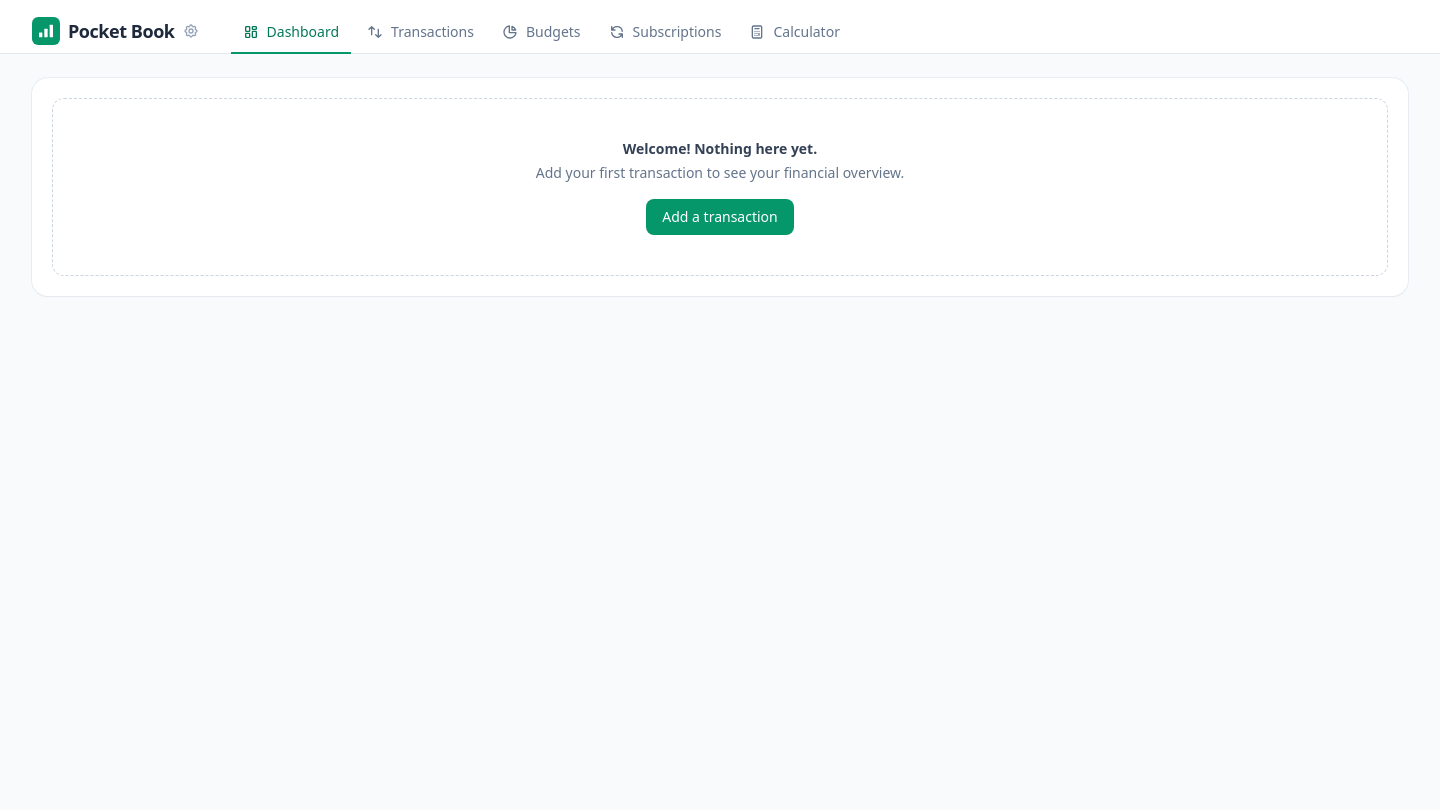
Test: transaction form date field › refuses 31/02/2026 (an impossible date), explains, and saves nothing
Click the tab "Transactions". click: [421, 33]
box: 355,12 -> 486,54
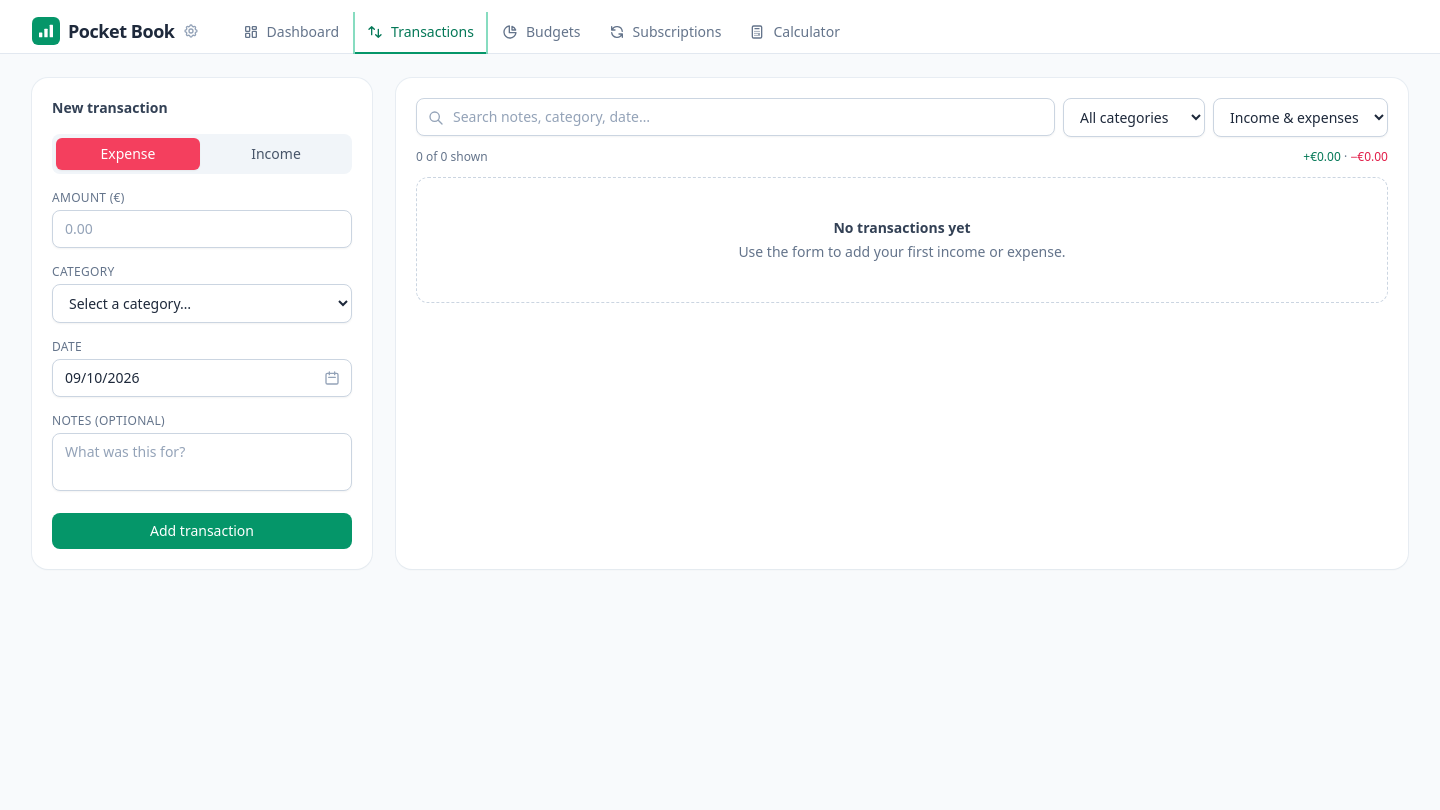
Type "5" into the field labelled "Amount (€)". click: [202, 229]
box: 52,210 -> 352,248
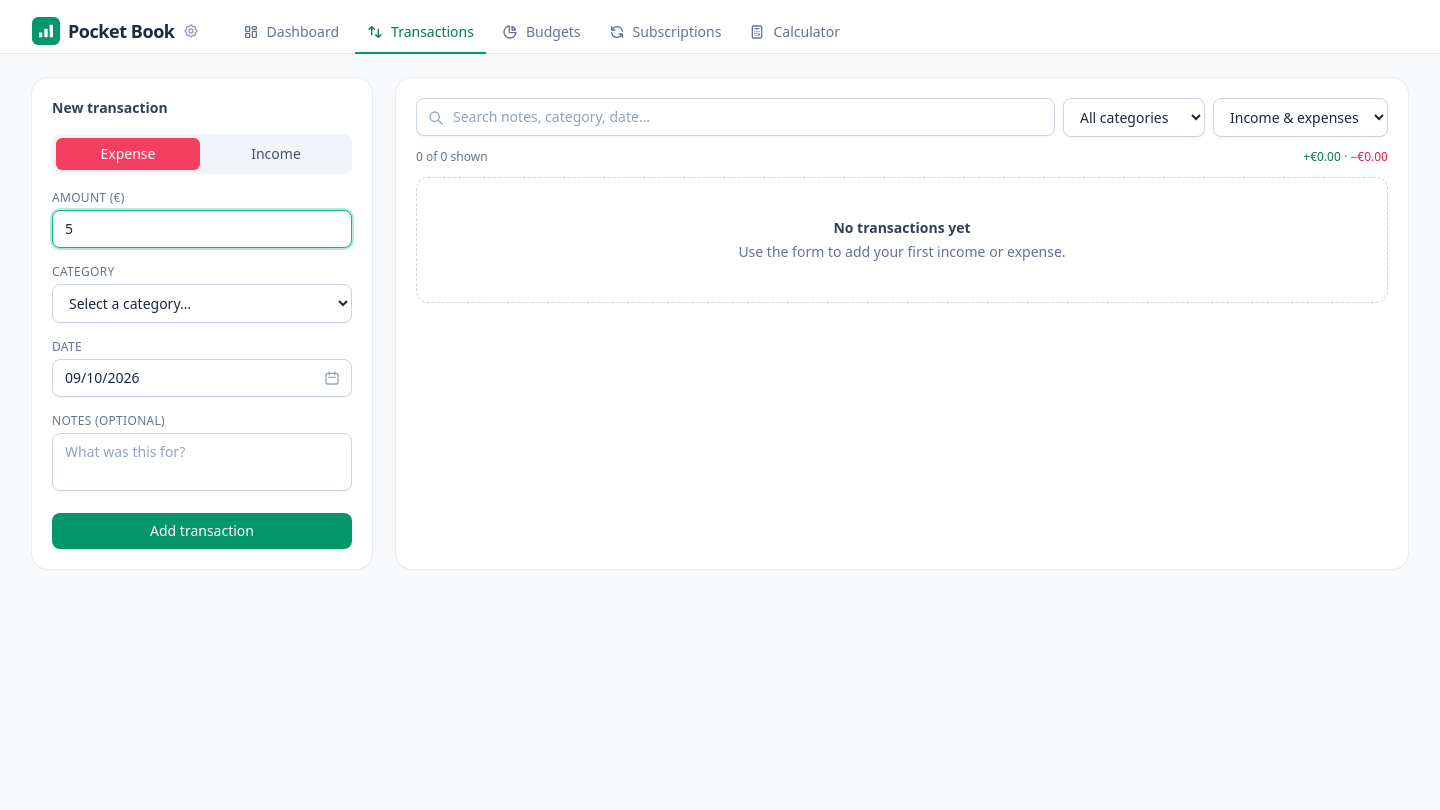
Select "Food" in the dropdown labelled "Category". click: [202, 304]
box: 52,284 -> 352,323
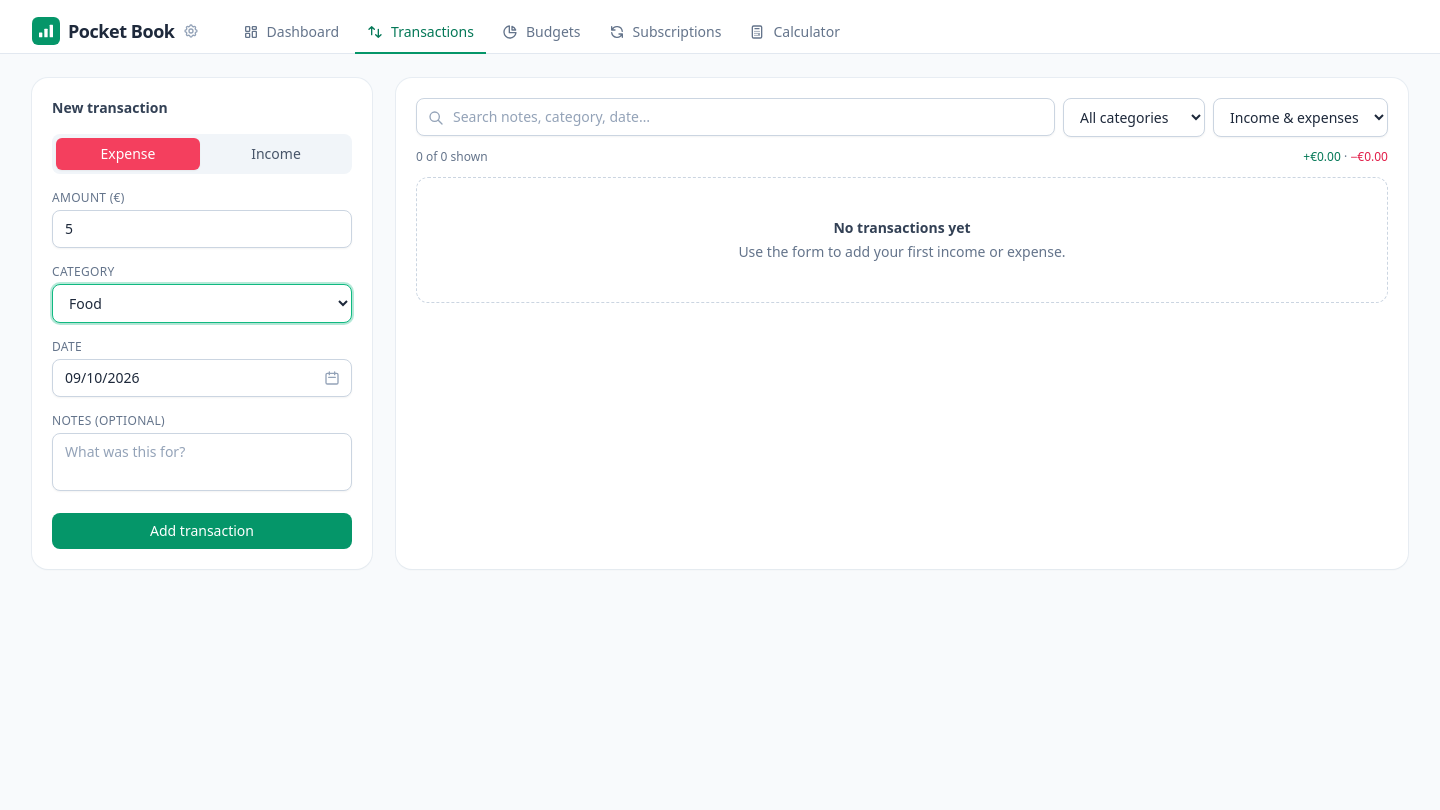
Replace the text in the field labelled "Date" with "31/02/2026". click: [202, 378]
box: 52,359 -> 352,397
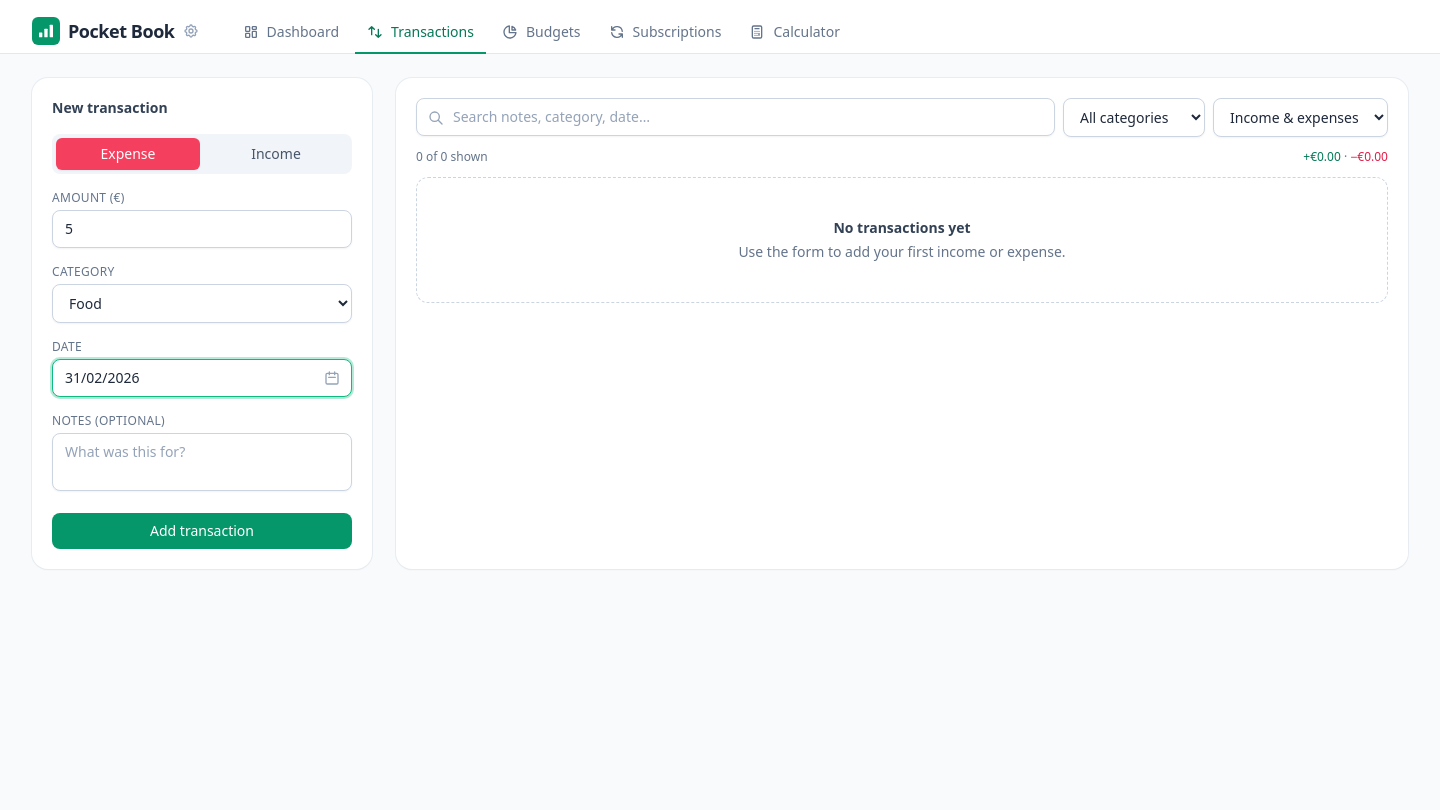
Click the button "Add transaction". click: [202, 531]
box: 52,513 -> 352,549
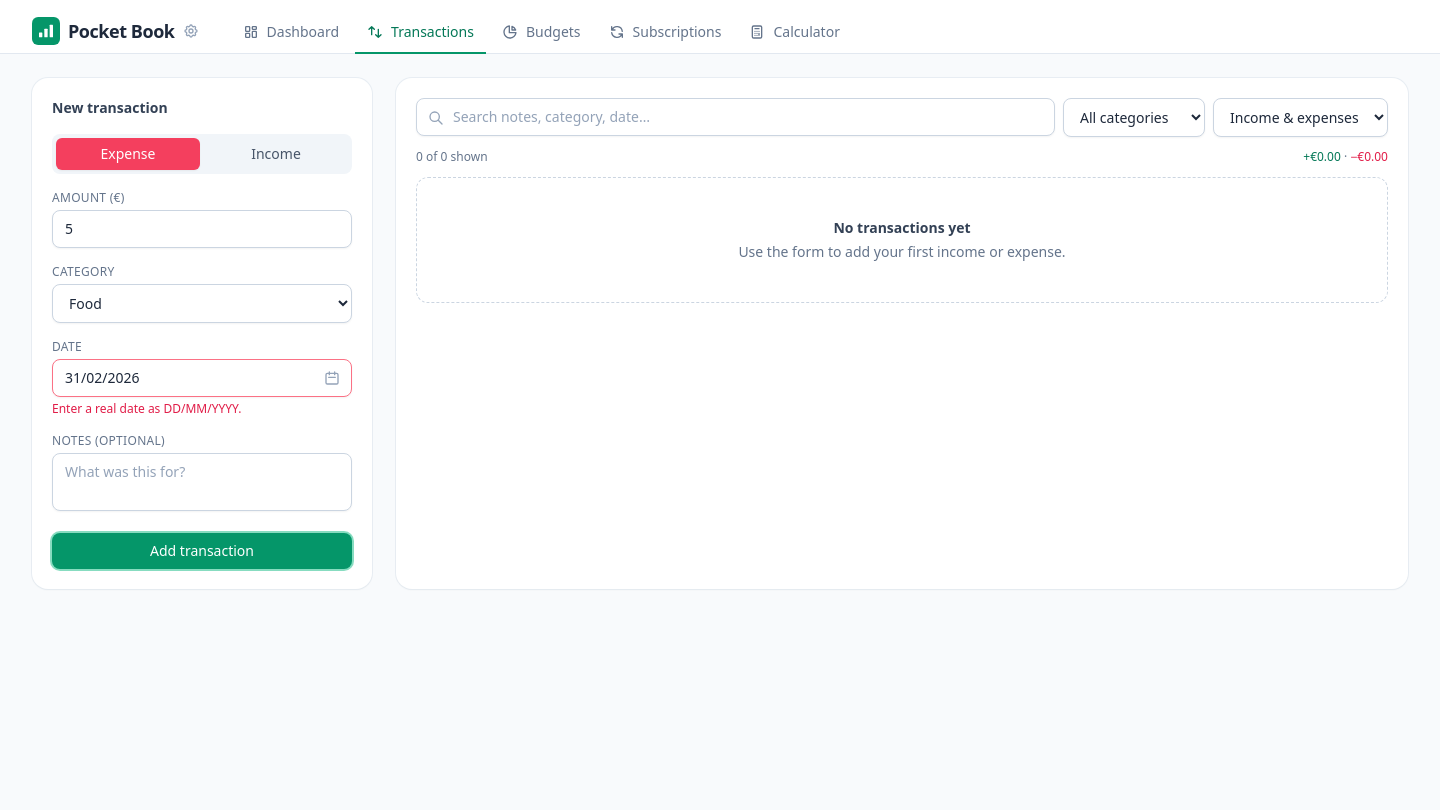
Result: the text "Enter a real date as DD/MM/YYYY." is shown at 52,400 -> 241,417
